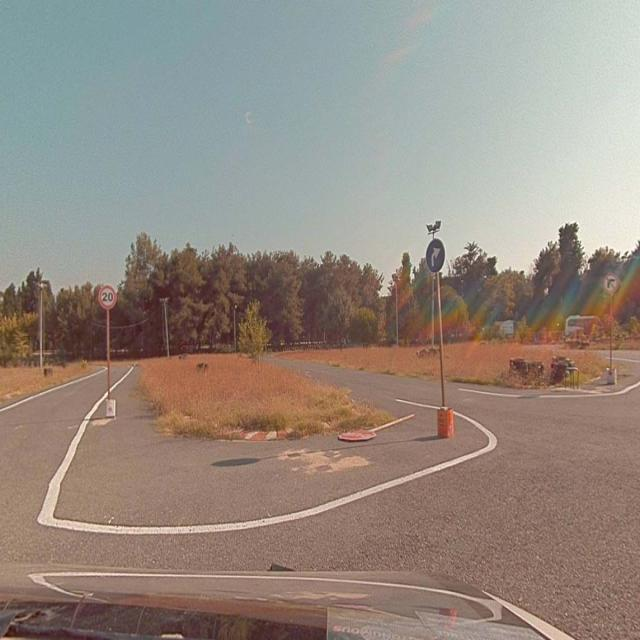20: (99, 286, 116, 310)
sag: (426, 240, 444, 270)
sagadonulmez: (603, 273, 618, 292)
